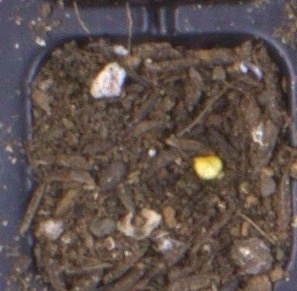chilli seed: (193, 155, 223, 181)
